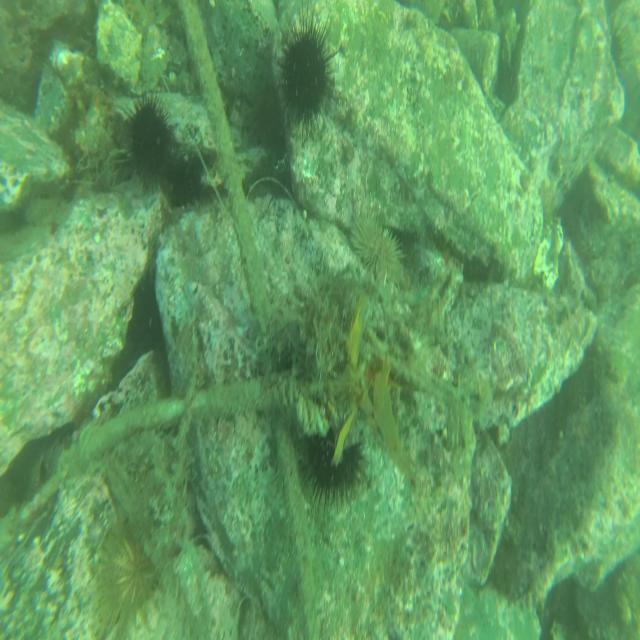echinus: (272, 2, 341, 130), (91, 516, 160, 631), (298, 408, 364, 521), (351, 206, 404, 290), (123, 90, 172, 174), (173, 142, 212, 218)
